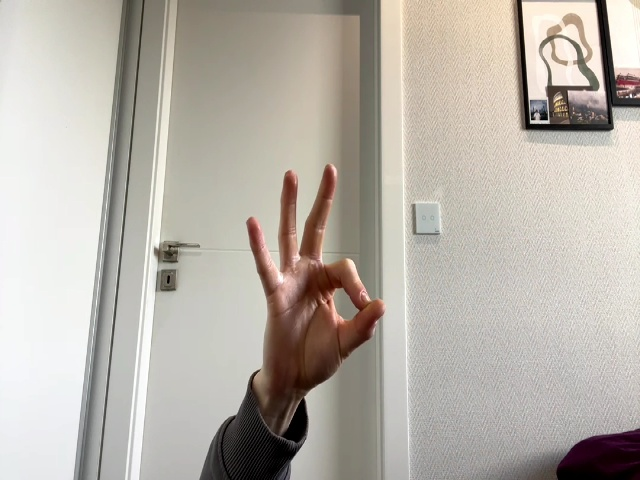O: (246, 163, 384, 383)
